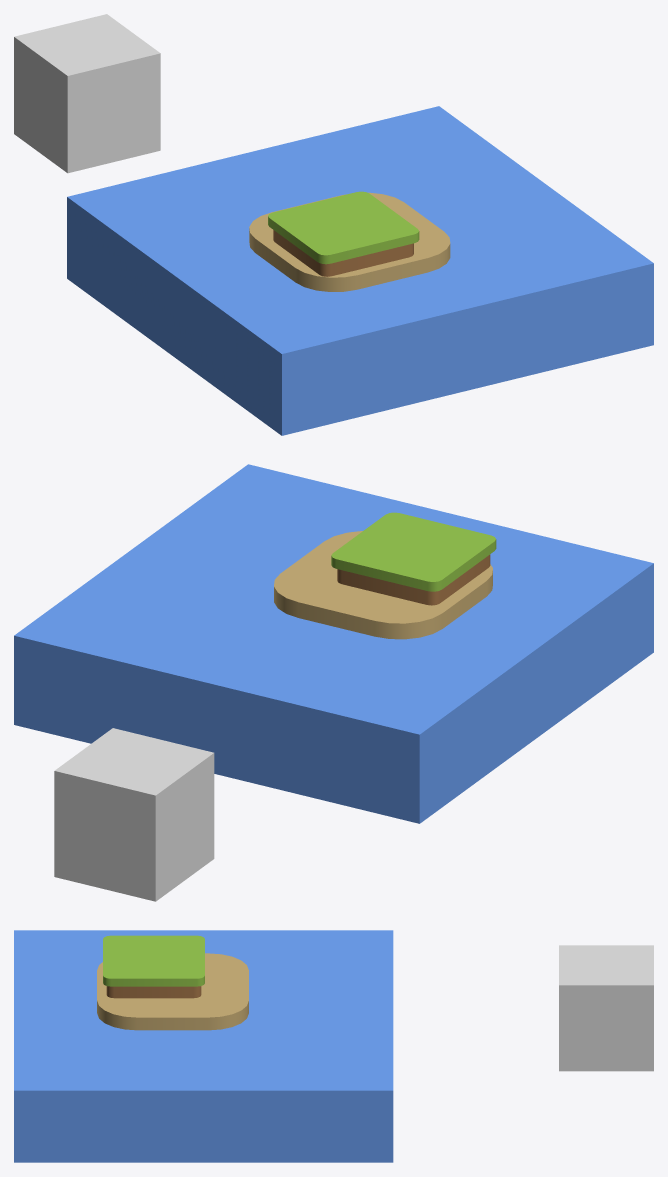
Rendered from JTB_island_01.fbx.
3 views of the same model, one above another, from view 1: azimuth 30°, elevation 25°; view 2: azimuth 150°, elevation 25°; view 3: azimuth 270°, elevation 25° (orthographic). The views are drawn at different scales.
Parts seen in each view (by area): view 1: Cube.004, Cube.003, Cube.002, Cube.001, Cube; view 2: Cube.004, Cube.003, Cube.001, Cube.002, Cube; view 3: Cube.004, Cube.003, Cube.001, Cube.002, Cube.
Boxes of the visible parts, <box> form: Cube.004: <box>67,106,653,435</box>; Cube.003: <box>14,14,160,173</box>; Cube.002: <box>268,191,419,264</box>; Cube.001: <box>249,192,450,291</box>; Cube: <box>273,230,413,276</box>; Cube.004: <box>14,464,653,823</box>; Cube.003: <box>54,728,214,901</box>; Cube.001: <box>274,531,492,639</box>; Cube.002: <box>331,512,496,591</box>; Cube: <box>337,554,490,605</box>; Cube.004: <box>14,930,393,1162</box>; Cube.003: <box>559,945,653,1071</box>; Cube.001: <box>97,953,248,1030</box>; Cube.002: <box>103,935,204,986</box>; Cube: <box>106,986,201,998</box>.
Bounding box in the file's own units: 800 × 247 × 1349.
